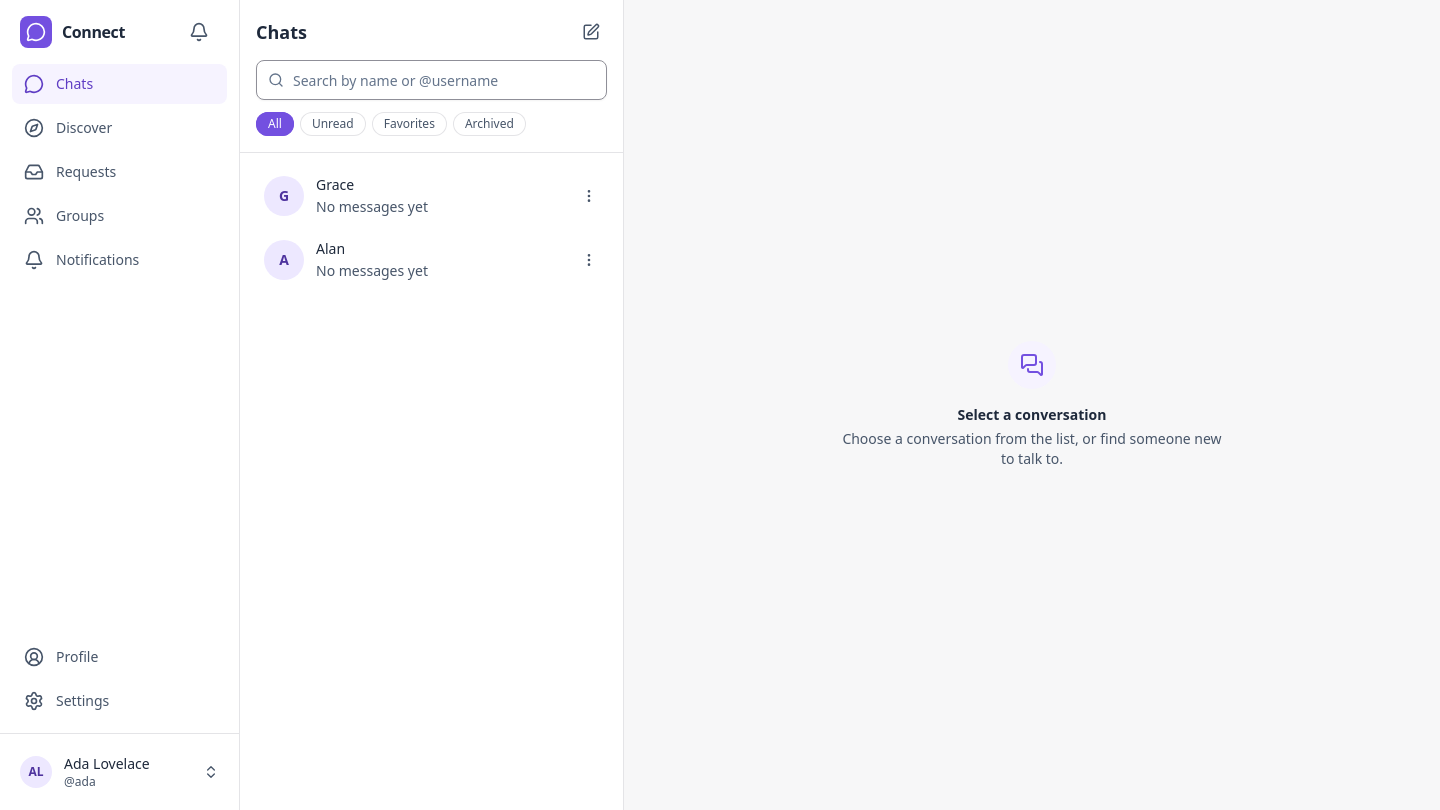
it: chat list management › searches by username or name on the server
Type "gra" into the search field.
click(432, 80); type("gra")  # box [256,60,607,100]
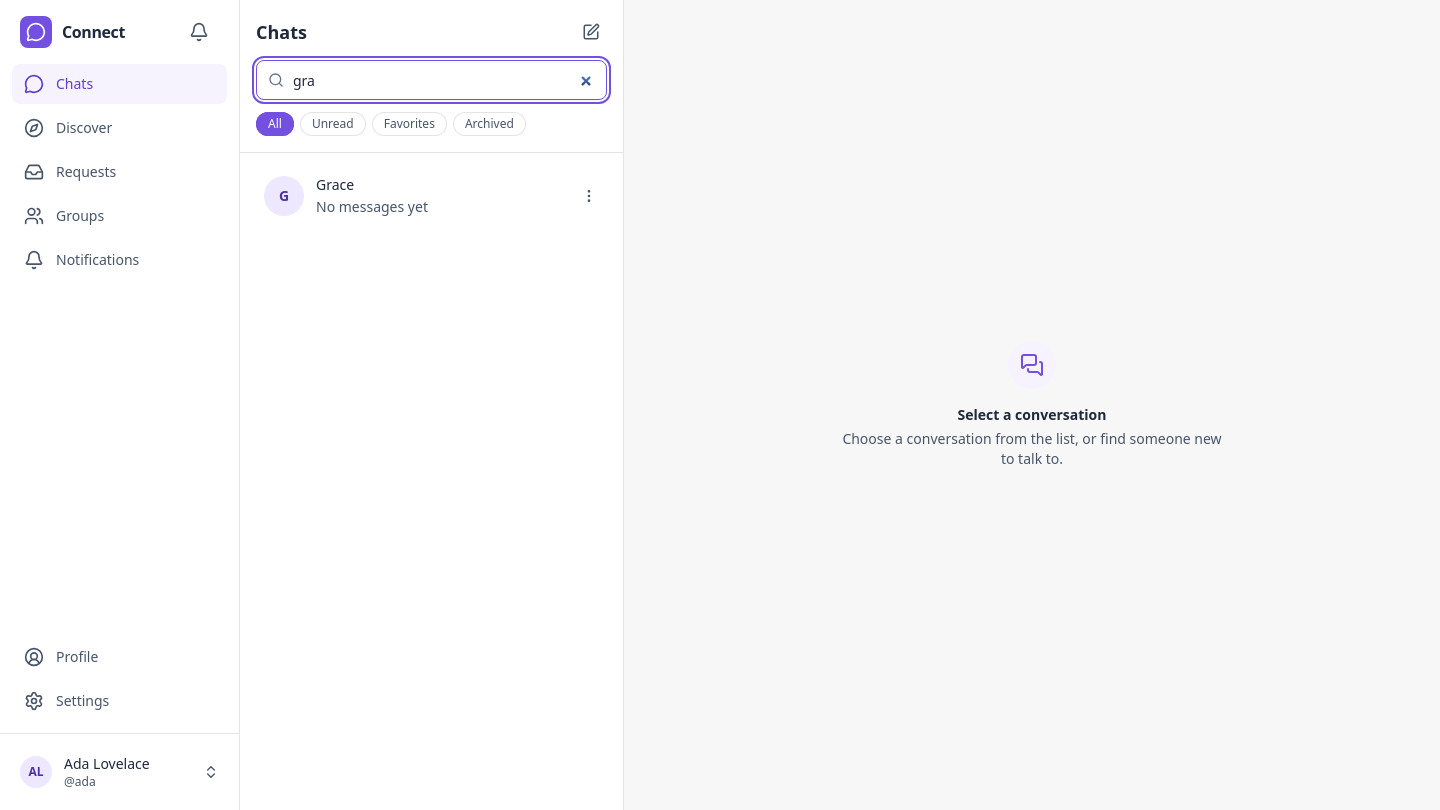
Expected: the text "Grace" is shown, [316,175,354,195]
Now the link "Alan" is gone
